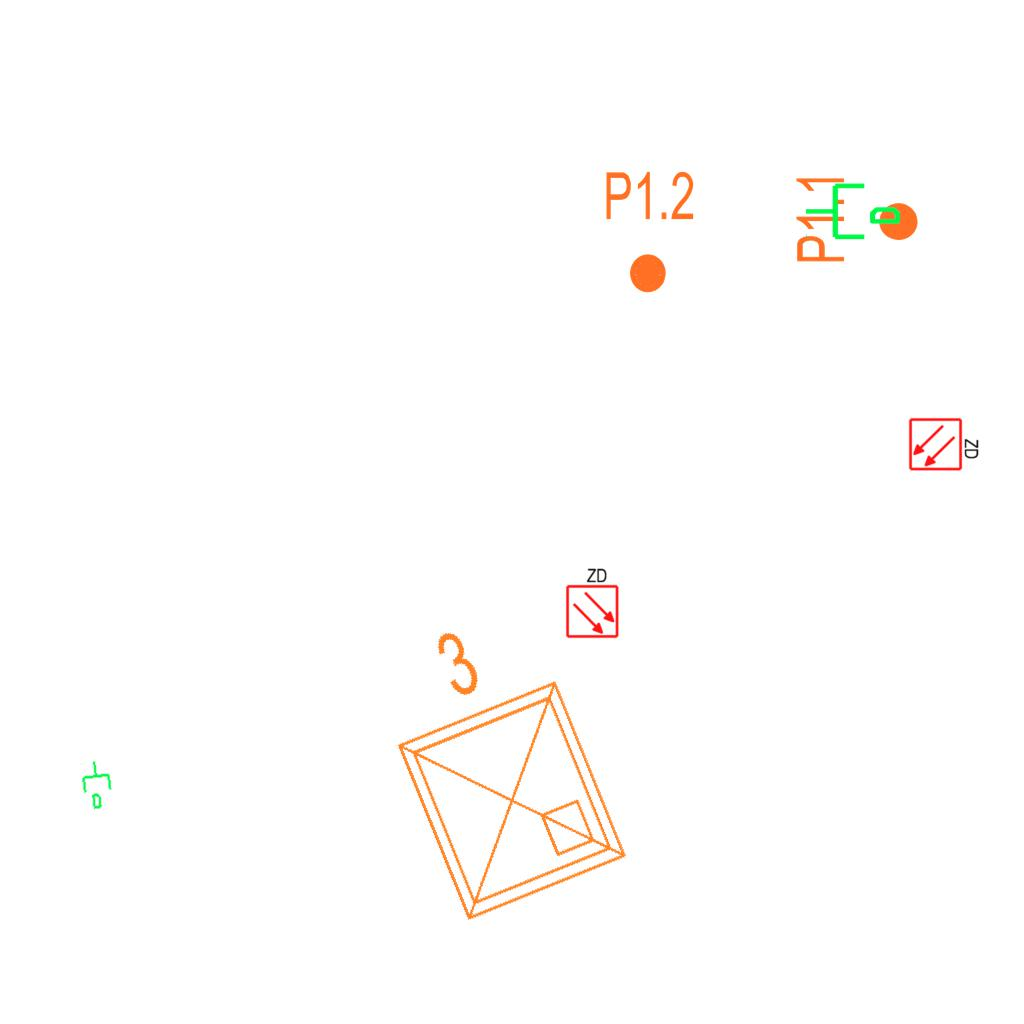Datenanschluss_einfach: (803, 175, 903, 244), (78, 758, 118, 812)
Downlight_LED_Einbauleuchten_Flur: (603, 168, 696, 296), (793, 172, 921, 265)
Einbaudownlights_LED_Konferenzraeume: (340, 585, 646, 943)
ZD_Melder_in_Zwischendecke_mit_Revisionsoeffnung_mind_40_x_40_cm: (908, 415, 982, 472), (563, 565, 620, 639)
